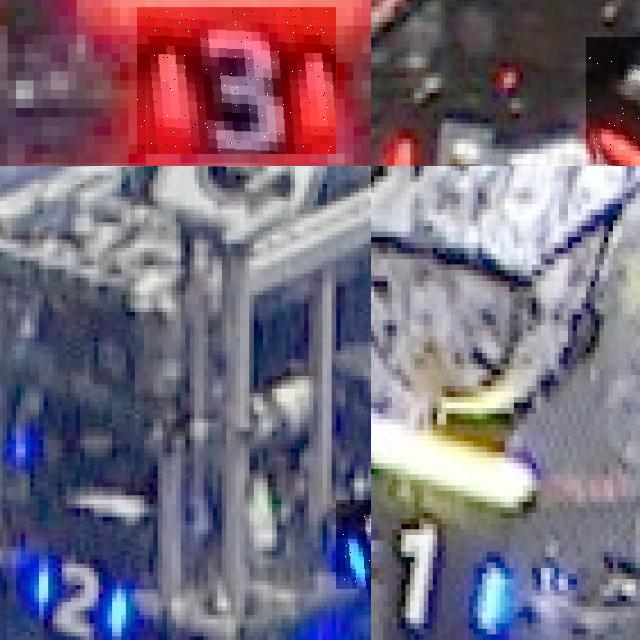B1: (371, 518, 509, 628)
B2: (34, 560, 126, 636), (336, 499, 371, 589)
R3: (137, 7, 336, 154)
R5: (585, 37, 640, 166)
